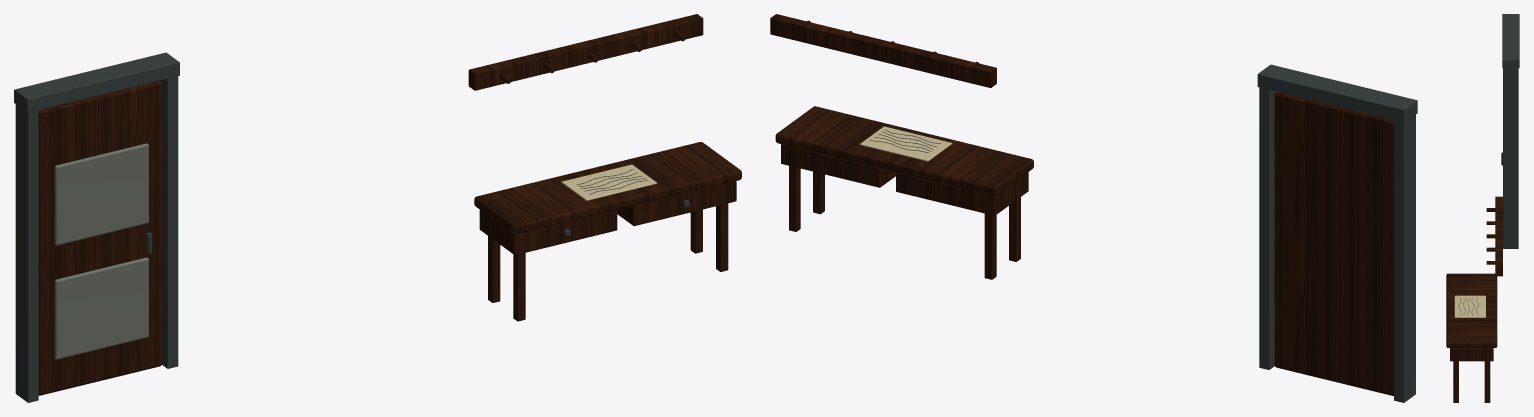
The model's file is south.glb.
The picture shows the model from 3 angles, left to right: view 1: azimuth 30°, elevation 25°; view 2: azimuth 150°, elevation 25°; view 3: azimuth 270°, elevation 25°; orthographic projection. The views are drawn at different scales.
Parts seen in each view (by area): view 1: mountain-cabin south; view 2: mountain-cabin south; view 3: mountain-cabin south.
Boxes of the visible parts, left/top/right/bottom form: mountain-cabin south: left=14, top=14, right=741, bottom=402; mountain-cabin south: left=770, top=14, right=1417, bottom=402; mountain-cabin south: left=1446, top=14, right=1519, bottom=402.
Size of the model in its own units: 6.15 by 2.67 by 0.935.
5 materials, 1 textured.
